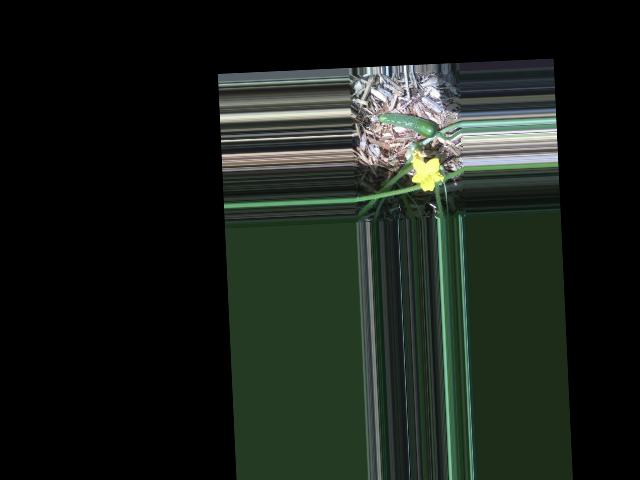cucumber: (372, 110, 438, 140)
